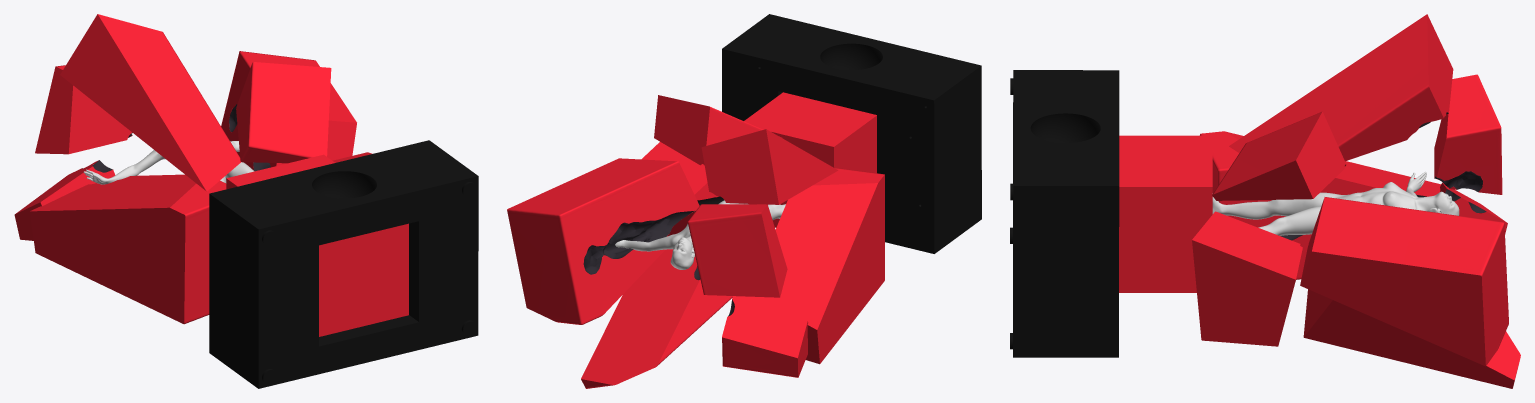
Rendered from asset.glb.
The picture shows the model from 3 angles, left to right: view 1: azimuth 30°, elevation 25°; view 2: azimuth 150°, elevation 25°; view 3: azimuth 270°, elevation 25°; orthographic projection. The views are drawn at different scales.
Visible parts, largest first — view 1: mesh, BLOQUES.002, BLOQUES.001, BASE MUJER, BLOQUES.000, BLOQUES.003, BLOQUES.005, Group16064.006, Group42257; view 2: mesh, BLOQUES.005, BLOQUES.002, BLOQUES.004, BLOQUES.003, BLOQUES.001, BASE MUJER, Group16064.006, BLOQUES.000, BLOQUES, Group42257; view 3: mesh, BLOQUES.005, BASE MUJER, BLOQUES.001, BLOQUES, BLOQUES.000, BLOQUES.004, BLOQUES.003, Group42257, BLOQUES.002, Group16064.006.
Part boxes in pixels (bbox=[...]): mesh: bbox=[209, 140, 478, 388]; BLOQUES.002: bbox=[29, 174, 226, 324]; BLOQUES.001: bbox=[60, 14, 241, 191]; BASE MUJER: bbox=[226, 154, 408, 336]; BLOQUES.000: bbox=[236, 62, 331, 163]; BLOQUES.003: bbox=[35, 65, 132, 154]; BLOQUES.005: bbox=[221, 51, 356, 171]; Group16064.006: bbox=[14, 160, 115, 240]; Group42257: bbox=[83, 141, 254, 184]; mesh: bbox=[722, 14, 981, 253]; BLOQUES.005: bbox=[507, 158, 699, 324]; BLOQUES.002: bbox=[768, 167, 884, 364]; BLOQUES.004: bbox=[581, 236, 732, 388]; BLOQUES.003: bbox=[687, 204, 787, 297]; BLOQUES.001: bbox=[701, 129, 838, 204]; BASE MUJER: bbox=[744, 92, 876, 227]; Group16064.006: bbox=[722, 296, 808, 377]; BLOQUES.000: bbox=[654, 95, 782, 166]; BLOQUES: bbox=[641, 142, 724, 235]; Group42257: bbox=[615, 200, 785, 269]; mesh: bbox=[1010, 70, 1119, 357]; BLOQUES.005: bbox=[1300, 197, 1508, 366]; BASE MUJER: bbox=[1119, 135, 1212, 292]; BLOQUES.001: bbox=[1229, 14, 1453, 161]; BLOQUES: bbox=[1192, 211, 1302, 346]; BLOQUES.000: bbox=[1212, 111, 1346, 200]; BLOQUES.004: bbox=[1303, 289, 1520, 388]; BLOQUES.003: bbox=[1434, 74, 1502, 194]; Group42257: bbox=[1212, 171, 1459, 235]; BLOQUES.002: bbox=[1200, 131, 1440, 279]; Group16064.006: bbox=[1440, 183, 1507, 234].
Bounding box in the file's own units: 20.9 × 18.17 × 28.26.
